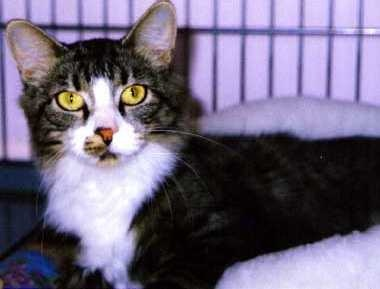Cat: (45, 38, 379, 288)
